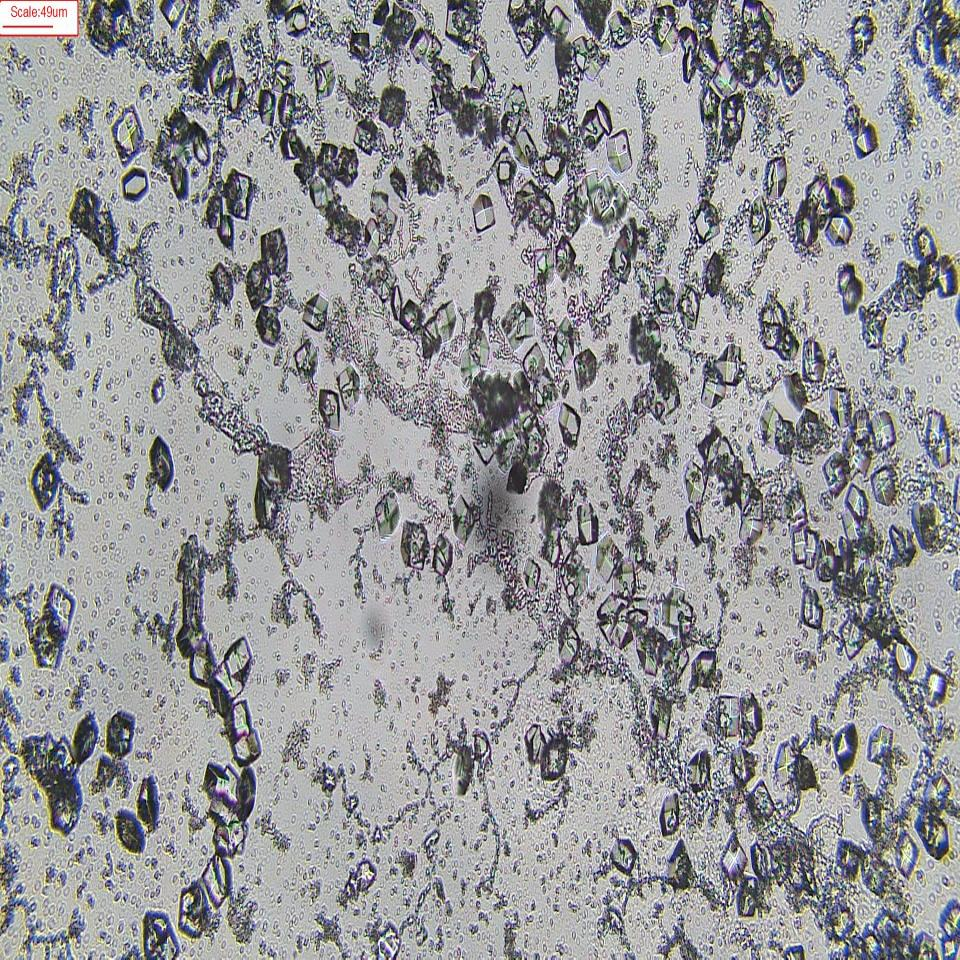crystal: (114, 809, 151, 865), (666, 831, 698, 895), (144, 437, 180, 493), (103, 706, 141, 758), (29, 453, 64, 507), (797, 581, 829, 640), (540, 735, 574, 785), (555, 622, 589, 672), (252, 305, 285, 352), (71, 714, 103, 762), (112, 107, 142, 158), (690, 648, 724, 693), (681, 502, 714, 548), (379, 85, 408, 131), (746, 196, 772, 246), (374, 487, 400, 536), (800, 336, 826, 384), (134, 778, 162, 822), (922, 666, 948, 713), (781, 481, 809, 524), (781, 54, 806, 102), (835, 834, 861, 880), (832, 726, 860, 768), (294, 338, 318, 387), (514, 123, 540, 168), (692, 199, 721, 239), (757, 399, 781, 447), (704, 250, 726, 302), (335, 366, 359, 413), (870, 467, 897, 508), (403, 521, 427, 567), (205, 262, 234, 300), (721, 837, 747, 879), (763, 156, 787, 201), (867, 724, 892, 767), (317, 387, 342, 430), (353, 117, 379, 158), (828, 385, 852, 429), (772, 738, 796, 782), (605, 133, 631, 173), (717, 344, 743, 384), (853, 121, 879, 161), (849, 18, 875, 57), (558, 402, 581, 446), (545, 3, 572, 40), (541, 149, 567, 187), (596, 534, 617, 581), (824, 213, 852, 248), (660, 589, 684, 629), (122, 167, 150, 201), (304, 292, 329, 330), (896, 834, 918, 877), (554, 236, 576, 279), (684, 459, 705, 504), (471, 192, 495, 231), (226, 76, 248, 118), (433, 536, 454, 579), (701, 375, 726, 411), (279, 124, 302, 163), (398, 296, 421, 335), (611, 837, 637, 871), (577, 503, 598, 545), (454, 497, 474, 541), (594, 98, 616, 138), (285, 4, 310, 36), (315, 62, 336, 100), (388, 165, 412, 198), (660, 792, 677, 836), (216, 214, 238, 248), (348, 27, 370, 60), (471, 54, 490, 91), (533, 247, 552, 283), (496, 153, 516, 187), (274, 61, 294, 94), (522, 557, 540, 587), (152, 378, 166, 405)
not_crystal: (177, 855, 234, 930), (714, 56, 764, 140), (722, 461, 764, 542), (205, 764, 255, 824), (915, 229, 957, 298), (597, 592, 648, 646), (215, 635, 253, 705), (249, 230, 286, 298), (210, 173, 254, 228), (798, 176, 857, 214), (524, 344, 556, 411), (842, 489, 872, 560), (421, 303, 458, 358), (825, 439, 870, 482), (719, 695, 764, 738), (224, 708, 259, 761), (589, 174, 623, 227), (926, 409, 953, 469), (310, 146, 334, 210), (837, 262, 864, 314), (366, 212, 396, 254), (502, 304, 535, 342), (458, 342, 483, 390), (605, 8, 633, 48), (412, 30, 441, 63), (556, 316, 578, 358), (220, 416, 239, 416)
